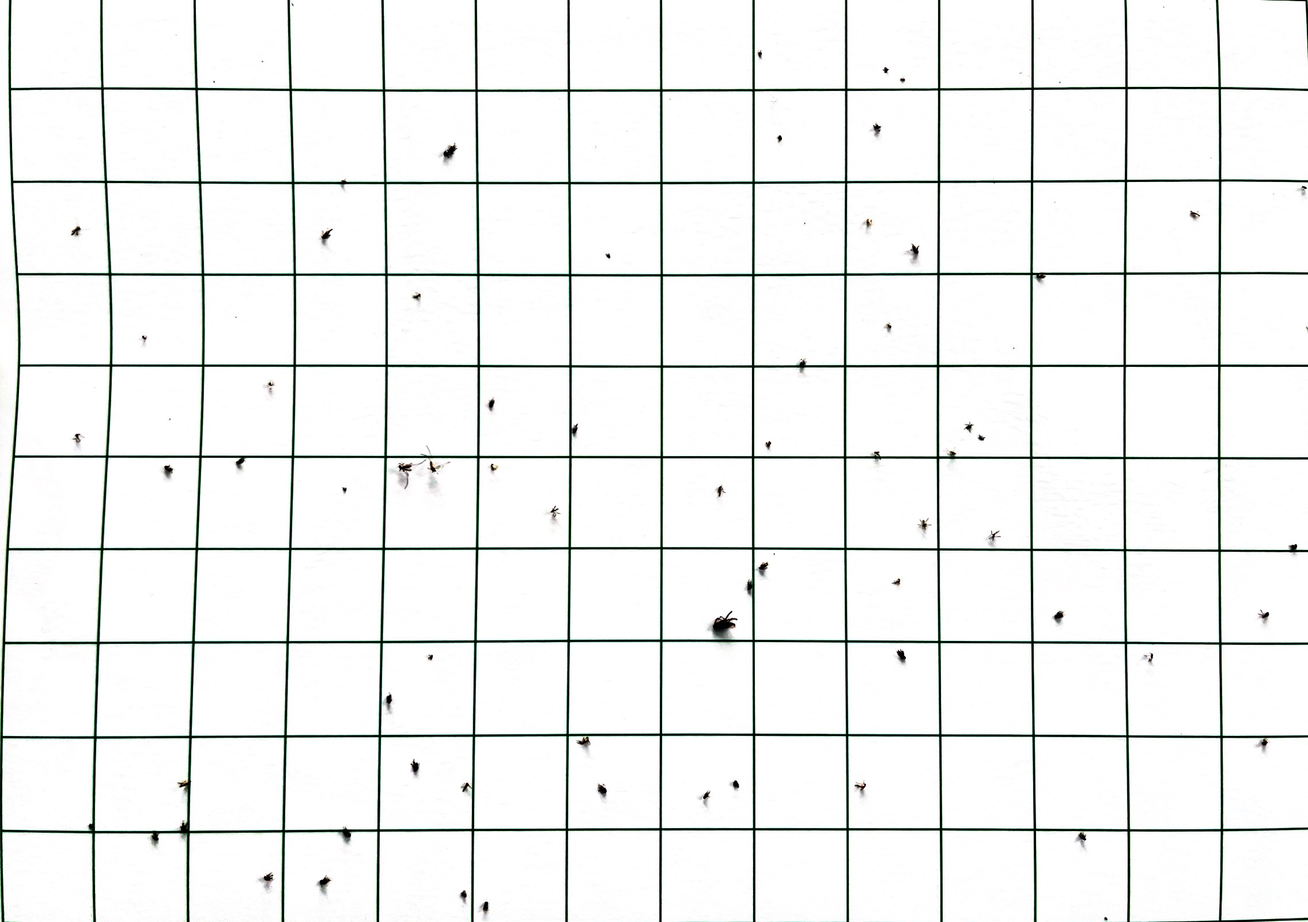fly: (711, 611, 738, 637), (441, 142, 459, 161)
test: (426, 458, 448, 476), (398, 461, 416, 477), (317, 874, 331, 889), (319, 228, 333, 243), (916, 518, 932, 531), (548, 505, 561, 519), (577, 736, 592, 748), (909, 242, 921, 257), (989, 530, 1002, 543), (797, 358, 810, 371), (1052, 609, 1066, 621), (68, 226, 83, 237), (179, 820, 189, 836), (598, 782, 608, 798), (340, 829, 353, 841), (855, 780, 868, 792), (1075, 832, 1088, 843), (178, 779, 192, 789), (745, 579, 755, 593), (570, 422, 580, 436), (758, 562, 770, 573), (872, 121, 883, 133), (73, 432, 84, 444), (235, 457, 246, 469), (411, 760, 420, 774), (164, 464, 175, 475), (263, 872, 275, 882), (1259, 611, 1271, 621), (1289, 542, 1299, 554), (897, 651, 907, 663), (1035, 272, 1047, 282), (1189, 209, 1201, 219), (386, 692, 394, 706), (488, 397, 496, 411), (1145, 652, 1155, 663), (882, 322, 893, 332), (152, 832, 161, 844), (482, 901, 491, 913), (864, 218, 876, 227), (873, 450, 882, 461), (716, 486, 725, 497), (732, 779, 740, 791), (948, 449, 958, 458), (462, 784, 472, 793), (702, 791, 711, 801), (1259, 739, 1269, 748), (893, 576, 902, 586), (412, 292, 422, 301), (965, 421, 973, 432), (977, 434, 986, 443), (765, 441, 774, 450), (489, 464, 498, 473), (86, 823, 96, 831), (340, 178, 348, 188), (461, 890, 468, 901), (267, 379, 274, 390), (427, 653, 435, 662), (341, 485, 349, 494), (757, 49, 764, 59), (882, 66, 890, 74), (140, 335, 149, 342), (1300, 185, 1307, 193), (605, 251, 612, 259), (1103, 916, 1110, 922), (899, 77, 906, 83), (776, 136, 783, 142)
